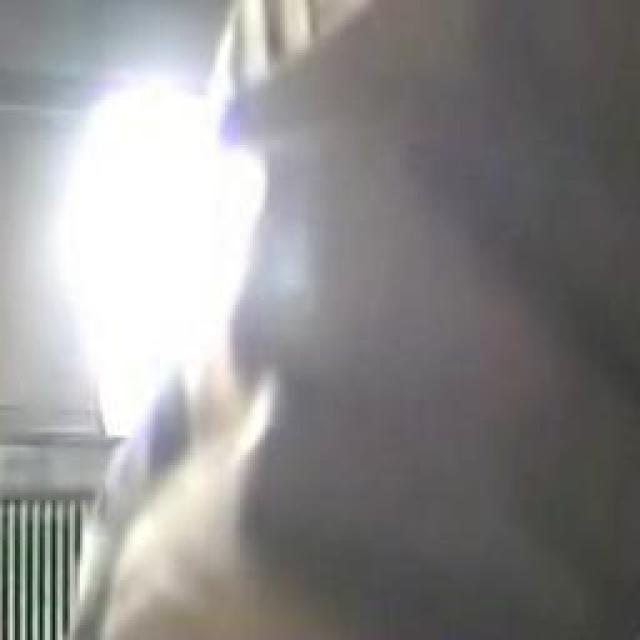other: (68, 66, 265, 472)
